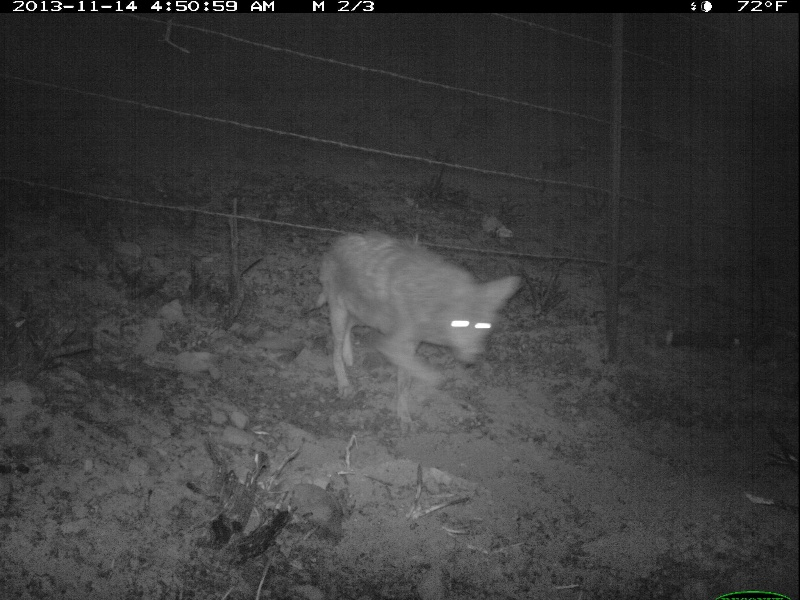coyote: (308, 230, 526, 430)
